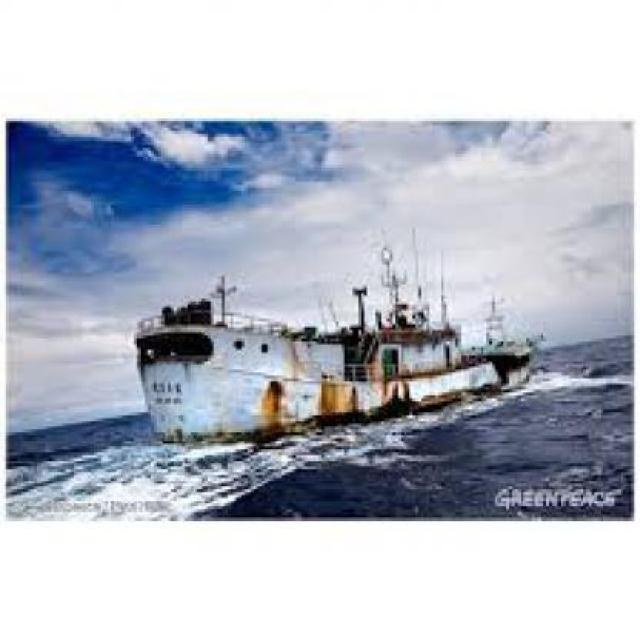fish-b: (126, 226, 553, 460)
